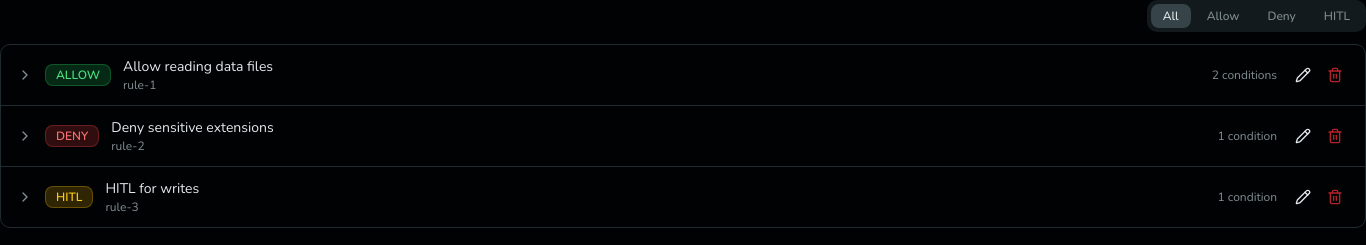
Test: PolicyRulesList › filter tabs › clicking "HITL" tab filters to hitl rules only
The image size is (1366, 245).
Click the tab "HITL" at (1337, 16), box [1312,4,1362,28]
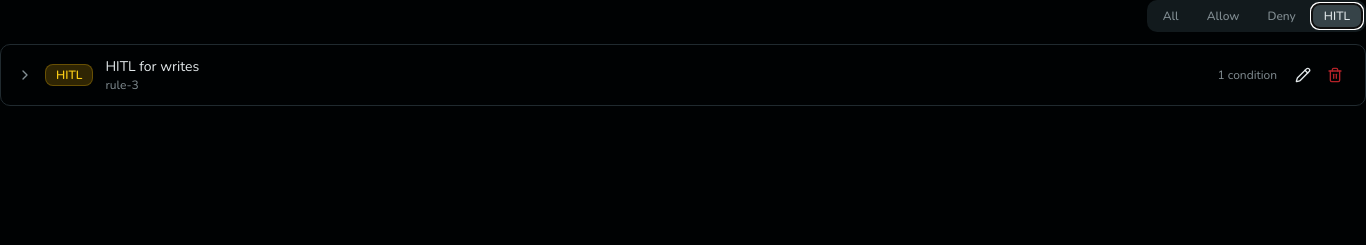
Expected: the text "HITL for writes" is shown, [105,57,199,76]
Expected: the button "Allow reading data files" is gone
